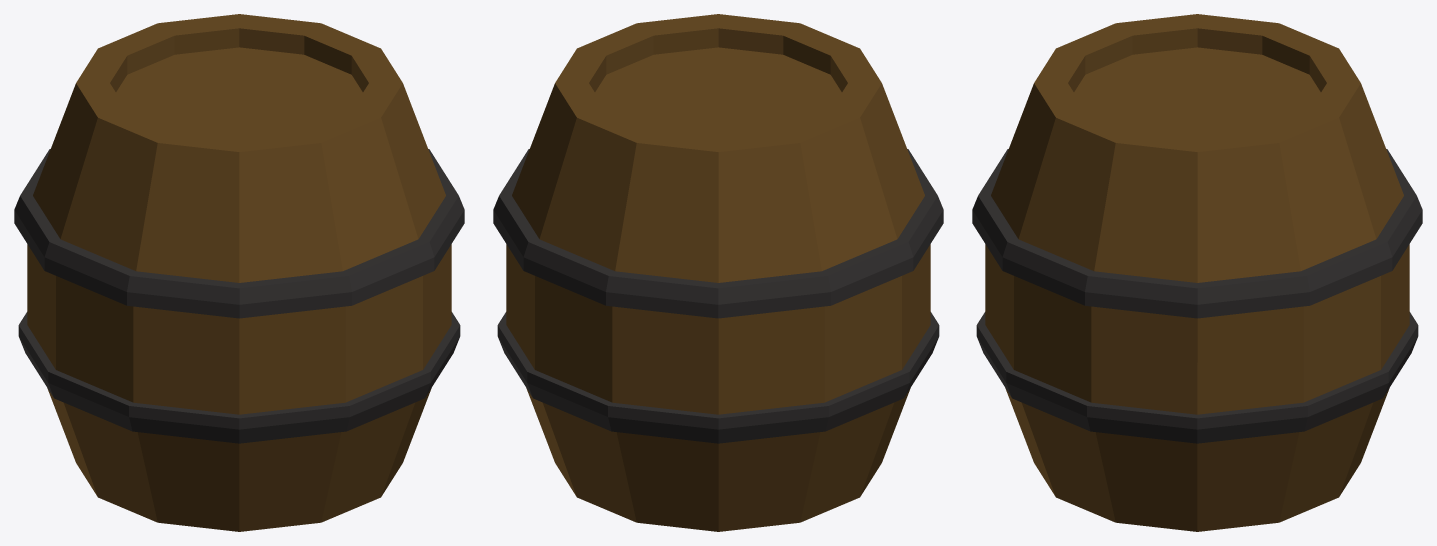
The model's file is SM_SM_Barrel_02.fbx.
The picture shows the model from 3 angles, left to right: view 1: azimuth 30°, elevation 25°; view 2: azimuth 150°, elevation 25°; view 3: azimuth 270°, elevation 25°; orthographic projection.
Parts seen in each view (by area): view 1: SM_Barrel_02; view 2: SM_Barrel_02; view 3: SM_Barrel_02.
Part boxes in pixels (bbox=[...]): SM_Barrel_02: bbox=[14, 14, 464, 531]; SM_Barrel_02: bbox=[493, 14, 943, 531]; SM_Barrel_02: bbox=[972, 14, 1422, 531].
Bounding box in the file's own units: 78.55 × 73.11 × 78.55.
